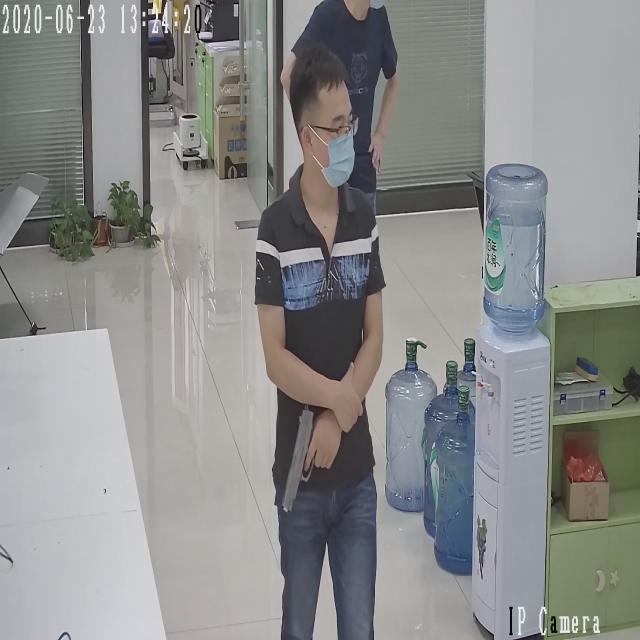gun-knife-thesis - v11 Yolov5 augmented: (276, 398, 338, 508)
